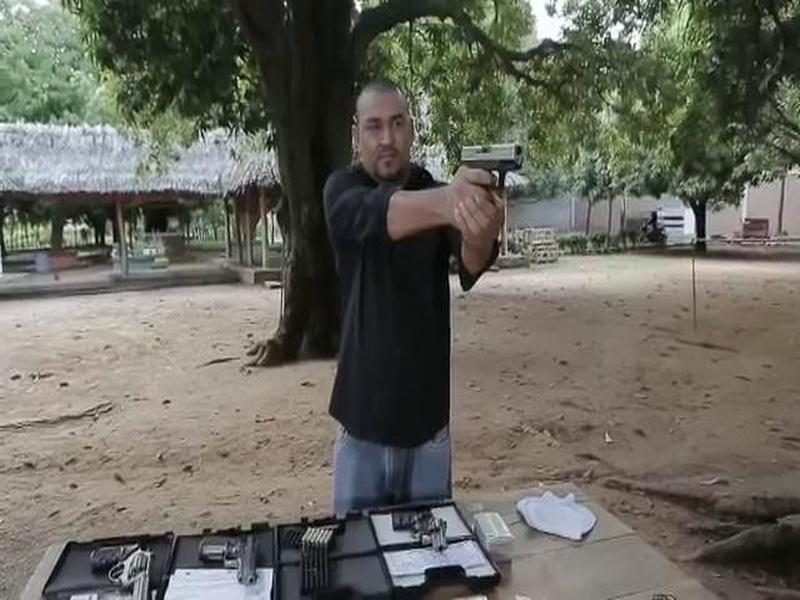Pistola: (459, 139, 529, 195)
